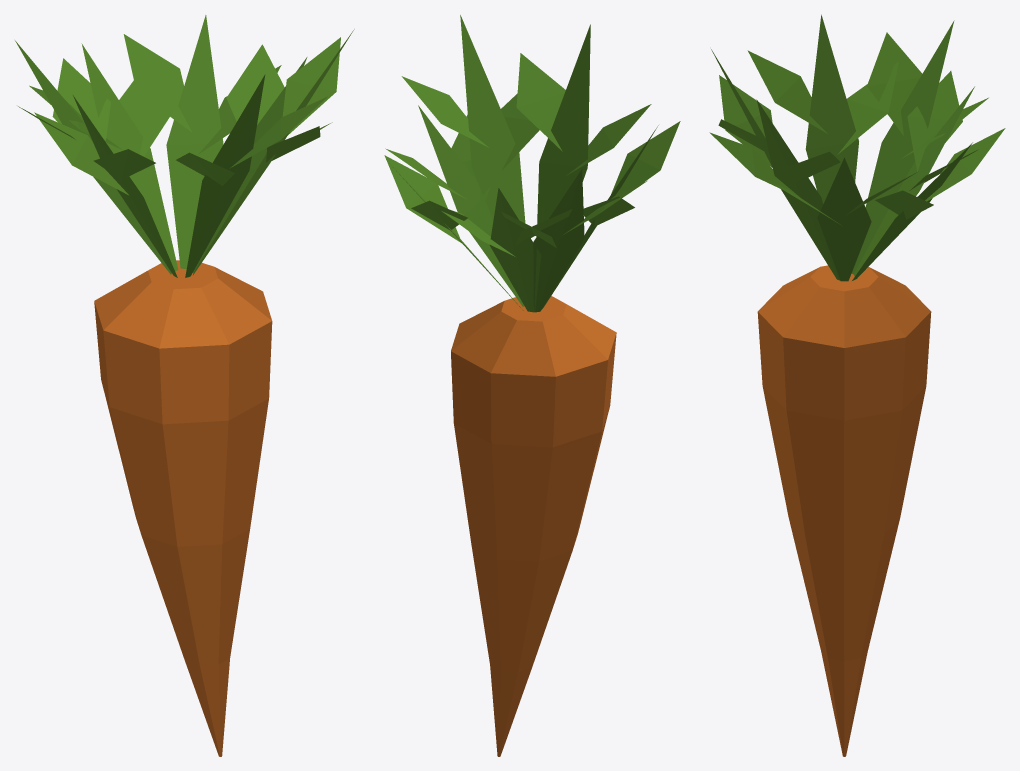
File: harvest-carrot_LOD0.glb
3 renders of one model, left to right at view 1: azimuth 30°, elevation 25°; view 2: azimuth 150°, elevation 25°; view 3: azimuth 270°, elevation 25°, orthographic. The views are drawn at different scales.
Visible parts, largest first — view 1: MARQUEUR_LOD0; view 2: MARQUEUR_LOD0; view 3: MARQUEUR_LOD0.
Boxes of the visible parts, left/top/right/bottom form: MARQUEUR_LOD0: left=15, top=15, right=354, bottom=756; MARQUEUR_LOD0: left=384, top=15, right=680, bottom=756; MARQUEUR_LOD0: left=709, top=14, right=1005, bottom=756.
Bounding box in the file's own units: 0.5932 × 1.42 × 0.5474.
